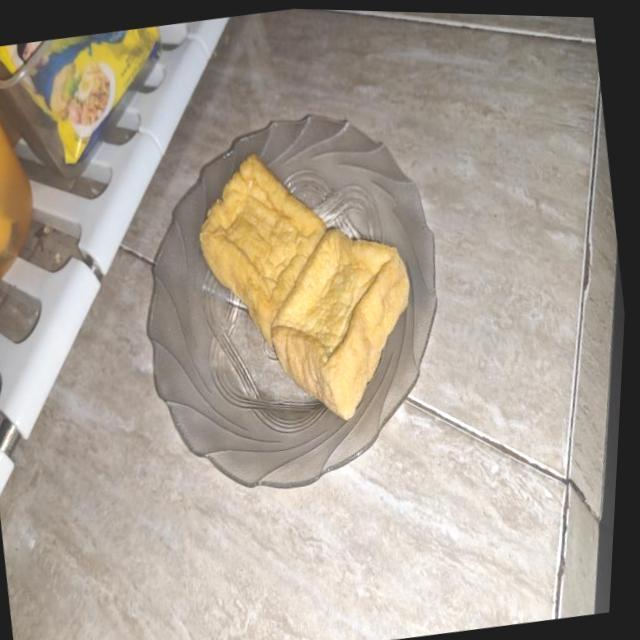tahu_goreng: (271, 229, 410, 420), (200, 154, 326, 343)
